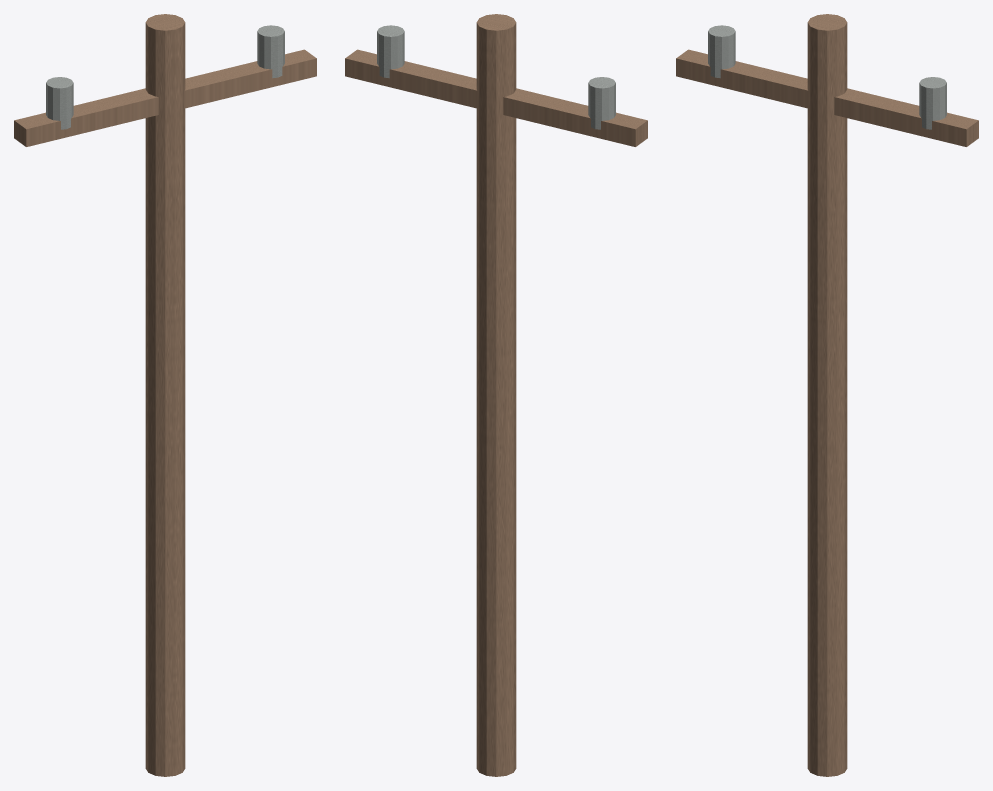
The model's file is power_pole_lod1.glb.
The picture shows the model from 3 angles, left to right: view 1: azimuth 30°, elevation 25°; view 2: azimuth 150°, elevation 25°; view 3: azimuth 330°, elevation 25°; orthographic projection.
Visible parts, largest first — view 1: world; view 2: world; view 3: world.
Part boxes in pixels (x1,y1,x2,y2): world: (14, 14, 316, 776); world: (345, 14, 647, 776); world: (676, 14, 978, 776).
Size of the model in its own units: 2.2 by 5.4 by 0.26.
5 materials, 5 textured.
